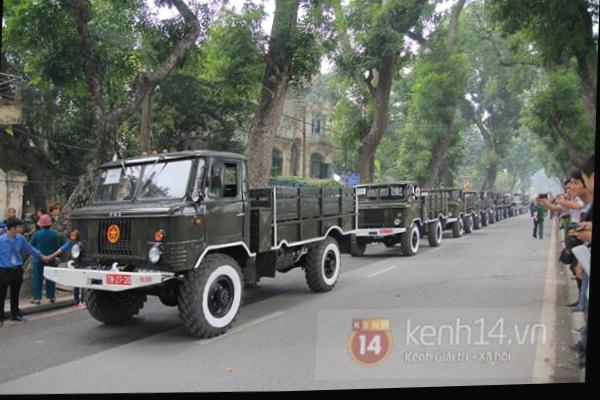License_Plate: (102, 271, 135, 288)
